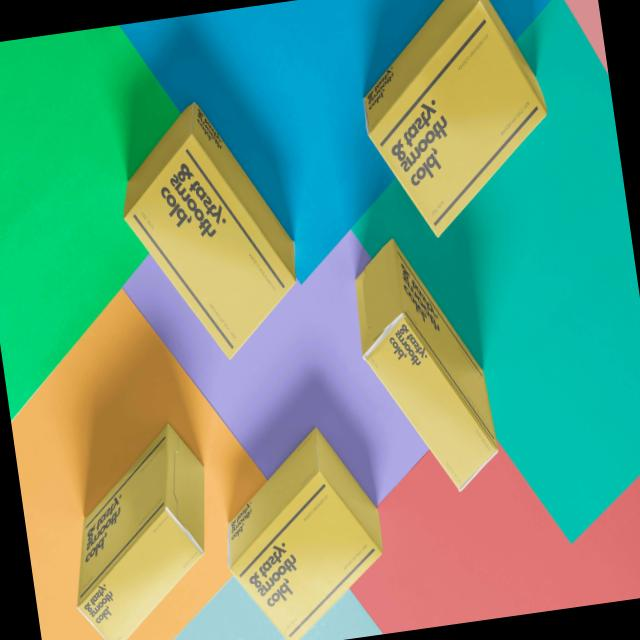Pathole: (110, 89, 308, 374), (342, 0, 562, 247), (347, 228, 502, 506), (210, 418, 394, 640), (54, 419, 227, 640)
